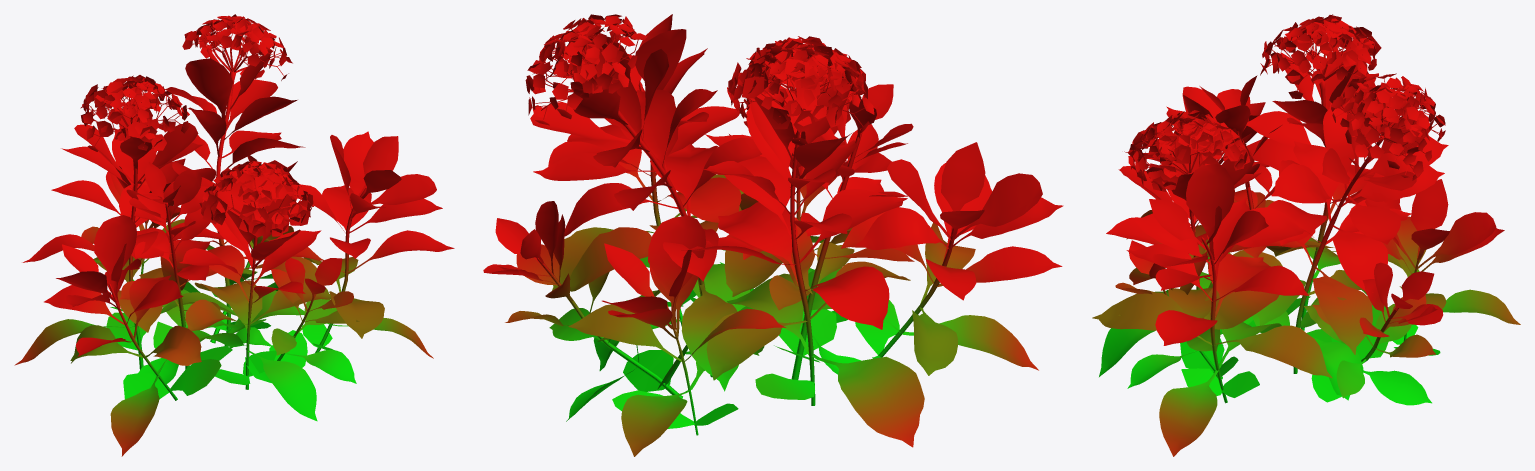
Rendered from Var6_LOD1.fbx.
3 views of the same model, side by side, from view 1: azimuth 30°, elevation 25°; view 2: azimuth 150°, elevation 25°; view 3: azimuth 270°, elevation 25° (orthographic). The views are drawn at different scales.
Parts seen in each view (by area): view 1: _wlsu_Var6_LOD1; view 2: _wlsu_Var6_LOD1; view 3: _wlsu_Var6_LOD1.
Boxes of the visible parts, x1,y1,x2,y2 form: _wlsu_Var6_LOD1: [14, 14, 454, 456]; _wlsu_Var6_LOD1: [483, 14, 1063, 456]; _wlsu_Var6_LOD1: [1092, 14, 1520, 456].
Size of the model in its own units: 78.19 by 58.57 by 69.82.
